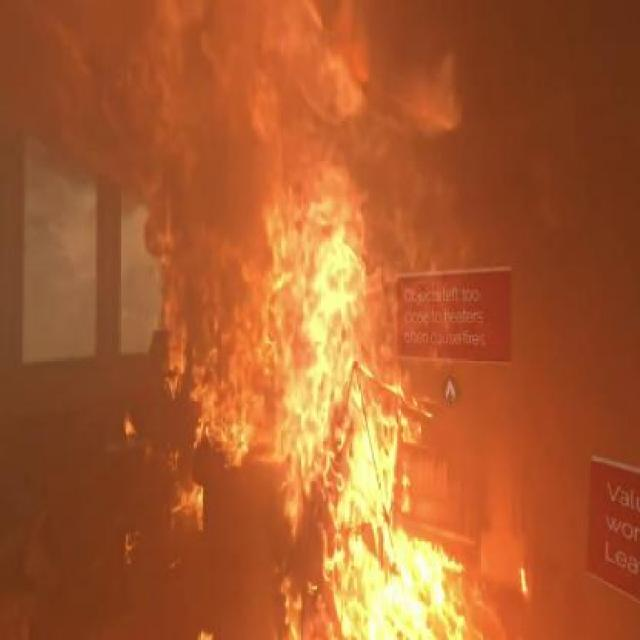fire: (277, 275, 472, 640)
smoke: (0, 126, 156, 440), (477, 0, 605, 272)
